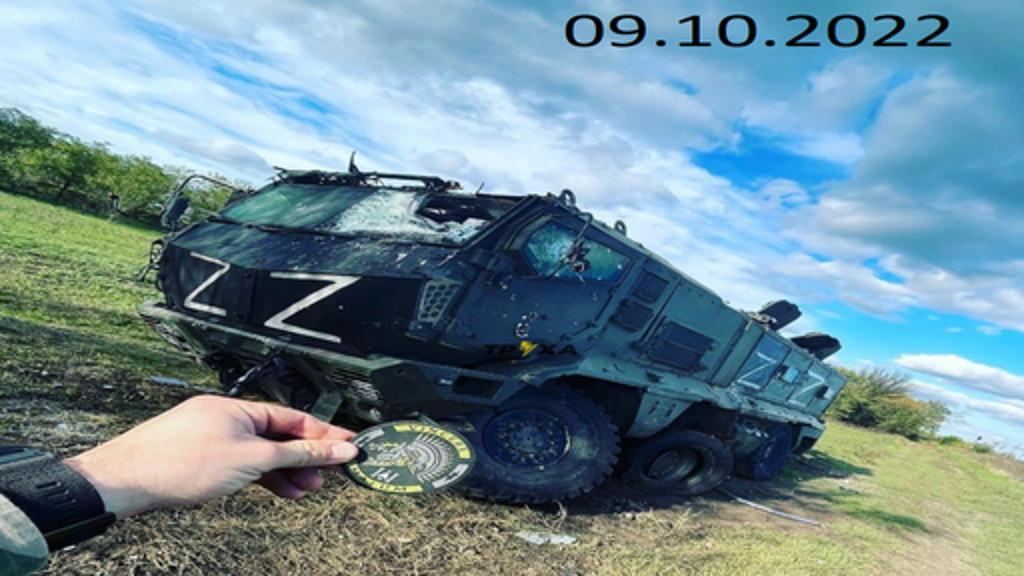TRUCK: (138, 156, 842, 508)
